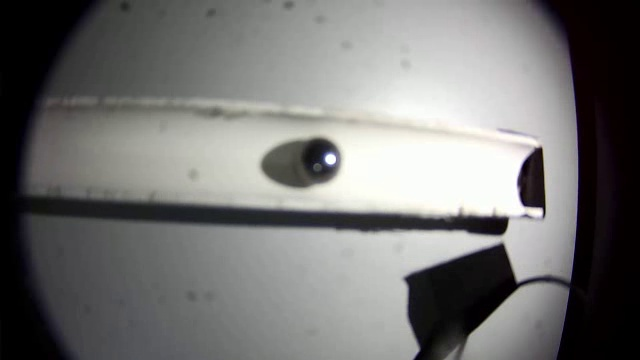gangzhu: (304, 139, 344, 183)
